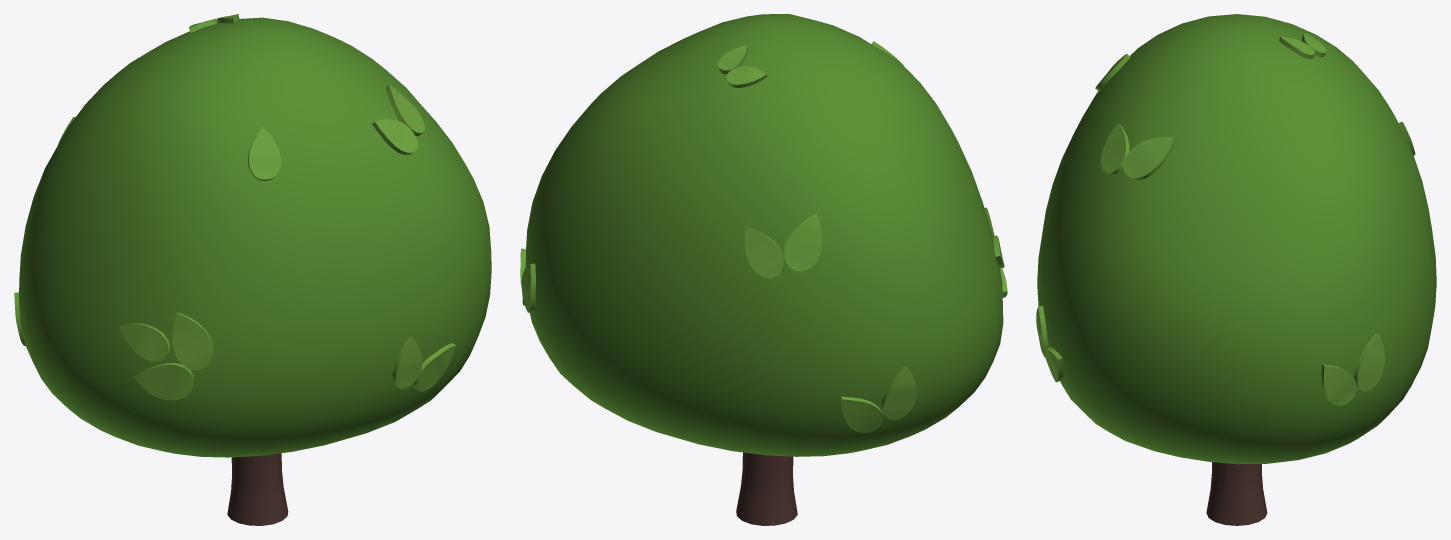
File: deciduous_tree.fbx
The picture shows the model from 3 angles, left to right: view 1: azimuth 30°, elevation 25°; view 2: azimuth 150°, elevation 25°; view 3: azimuth 270°, elevation 25°; orthographic projection.
Parts seen in each view (by area): view 1: Cube.176; view 2: Cube.176; view 3: Cube.176.
Boxes of the visible parts, x1=… form: Cube.176: x1=14, y1=14, x2=491, y2=525; Cube.176: x1=520, y1=14, x2=1007, y2=525; Cube.176: x1=1036, y1=14, x2=1436, y2=525.
Bounding box in the file's own units: 191 × 210 × 159.
Materials: 1 (1 with a texture image).
